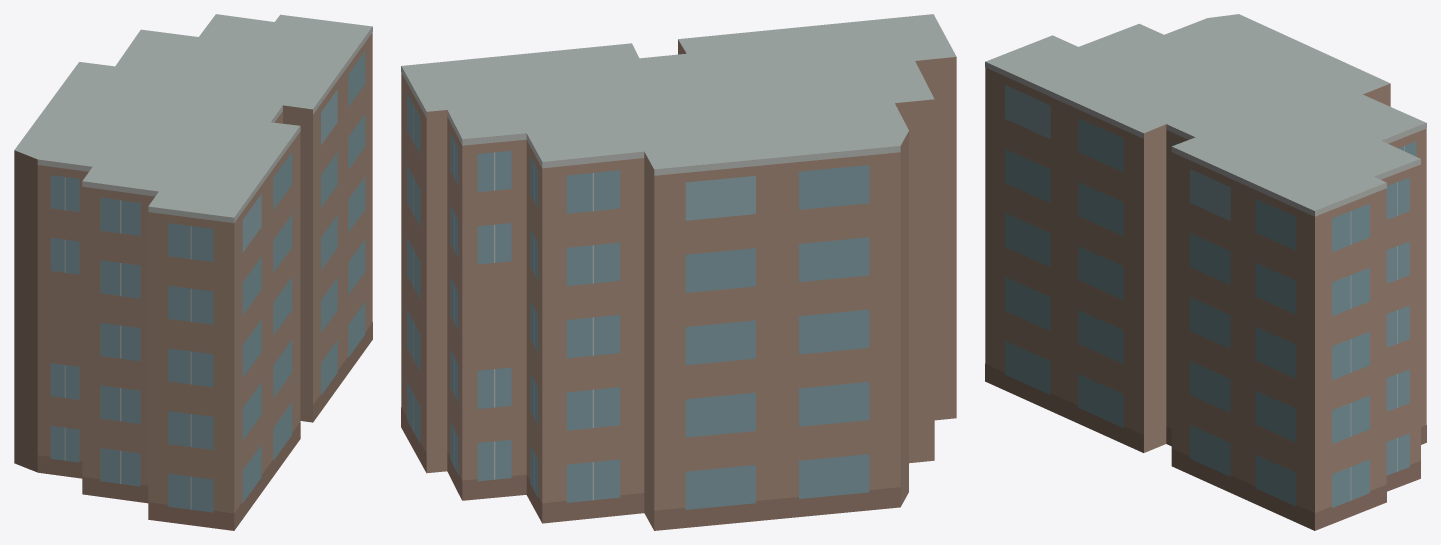
File: survey-upis-32721493.glb
3 views of the same model, side by side, from view 1: azimuth 30°, elevation 25°; view 2: azimuth 150°, elevation 25°; view 3: azimuth 270°, elevation 25° (orthographic). The views are drawn at different scales.
Parts seen in each view (by area): view 1: survey-upis-32721493.tmp; view 2: survey-upis-32721493.tmp; view 3: survey-upis-32721493.tmp.
Boxes of the visible parts, <box> form: survey-upis-32721493.tmp: <box>14,14,372,530</box>; survey-upis-32721493.tmp: <box>401,14,956,530</box>; survey-upis-32721493.tmp: <box>985,14,1426,530</box>.
Bounding box in the file's own units: 18.38 × 13.9 × 17.4.
